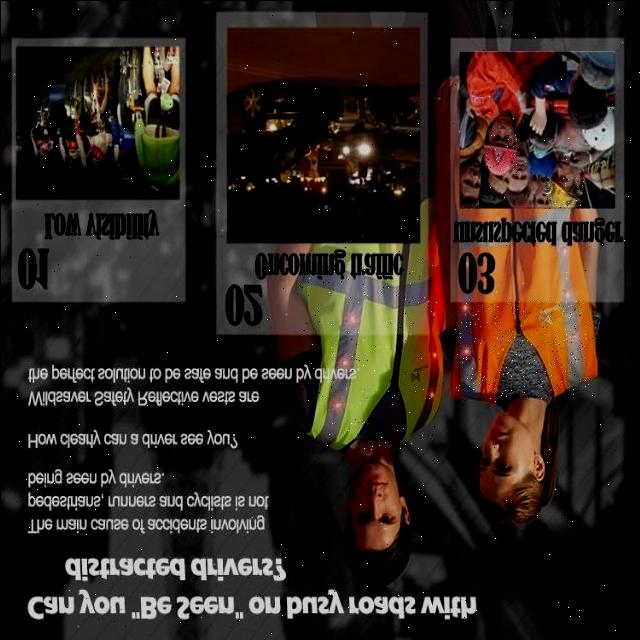Helmet: (481, 132, 519, 174), (544, 177, 584, 209)
Vest: (301, 244, 435, 449), (454, 300, 590, 398)
